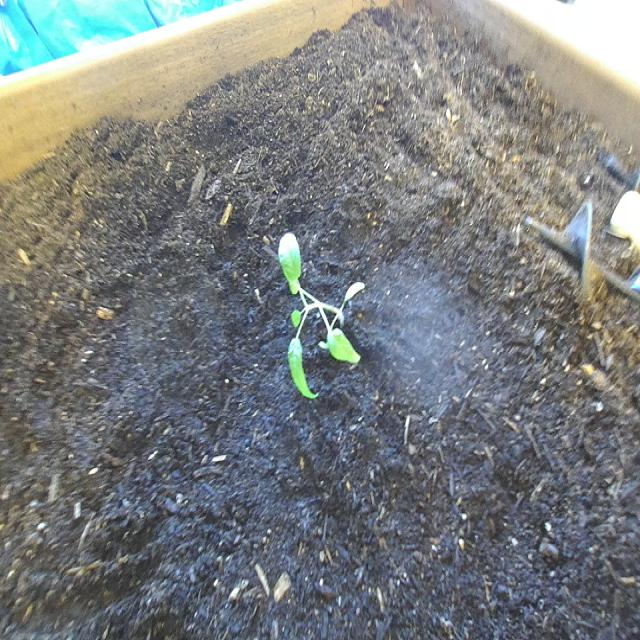Healthy: (275, 229, 372, 405)
